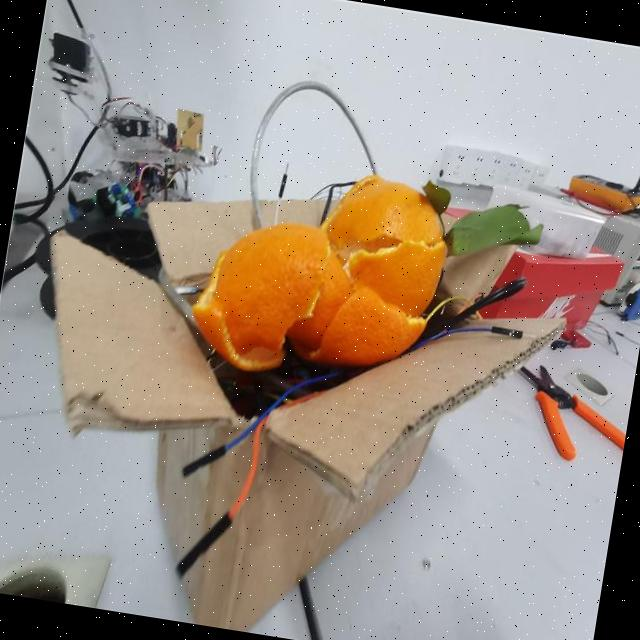orange-peel: (183, 148, 457, 399)
